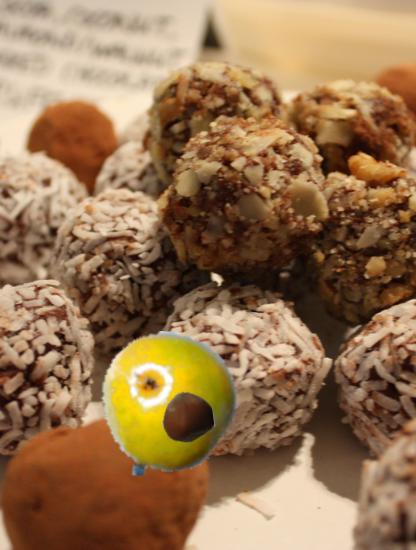Maracuja: (98, 332, 244, 478)
Nut: (162, 391, 214, 443)
